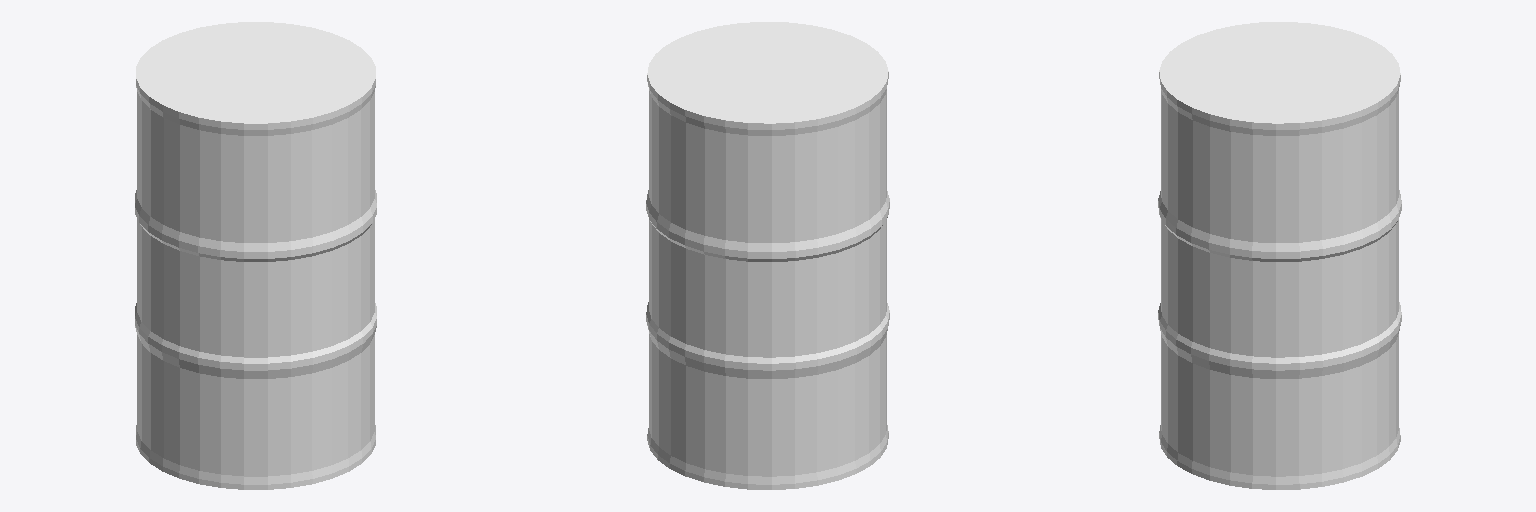
File: oildrum.obj
3 renders of one model, left to right at view 1: azimuth 30°, elevation 25°; view 2: azimuth 150°, elevation 25°; view 3: azimuth 270°, elevation 25°, orthographic.
Visible parts, largest first — view 1: Oildrum-ref_Cylinder.001; view 2: Oildrum-ref_Cylinder.001; view 3: Oildrum-ref_Cylinder.001.
Boxes of the visible parts, box(x1,y1,x2,y2) form: Oildrum-ref_Cylinder.001: box(135, 22, 376, 489); Oildrum-ref_Cylinder.001: box(646, 22, 889, 489); Oildrum-ref_Cylinder.001: box(1158, 22, 1401, 489).
Size of the model in its own units: 0.6966 by 1.16 by 0.6966.